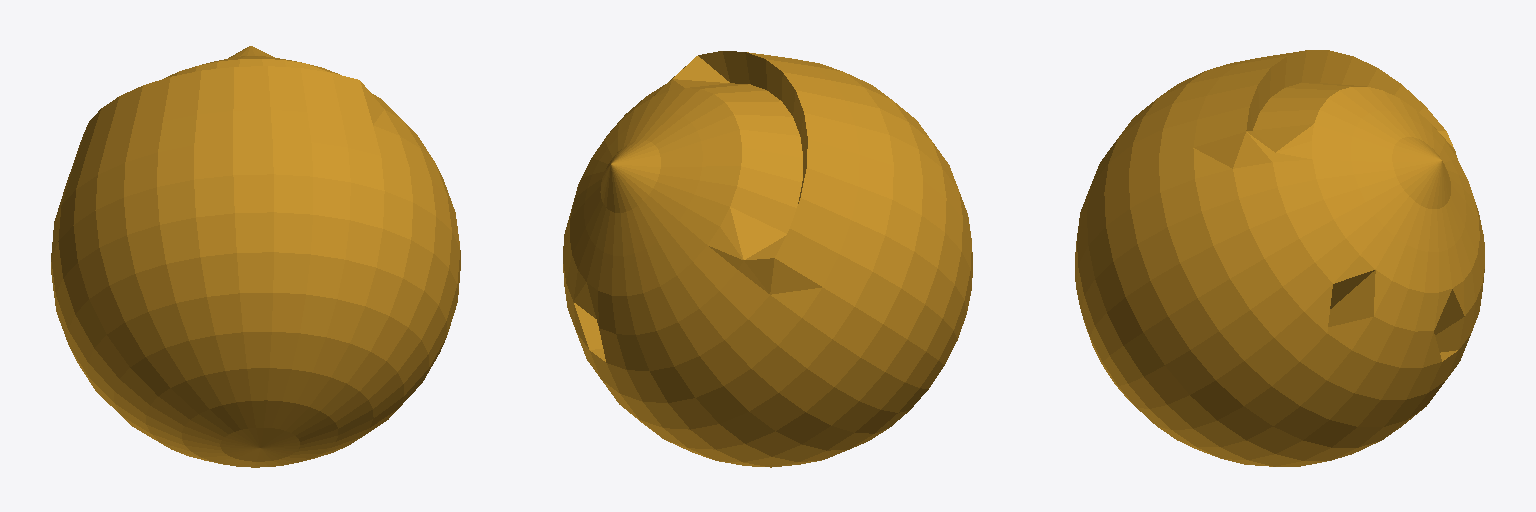
The model's file is Moon.obj.
3 renders of one model, left to right at view 1: azimuth 30°, elevation 25°; view 2: azimuth 150°, elevation 25°; view 3: azimuth 270°, elevation 25°, orthographic.
Visible parts, largest first — view 1: Sphere; view 2: Sphere; view 3: Sphere.
Part boxes in pixels (x1,y1,x2,y2): Sphere: (51,46,460,467); Sphere: (563,51,972,467); Sphere: (1075,50,1484,466).
Size of the model in its own units: 2 by 2.06 by 2.